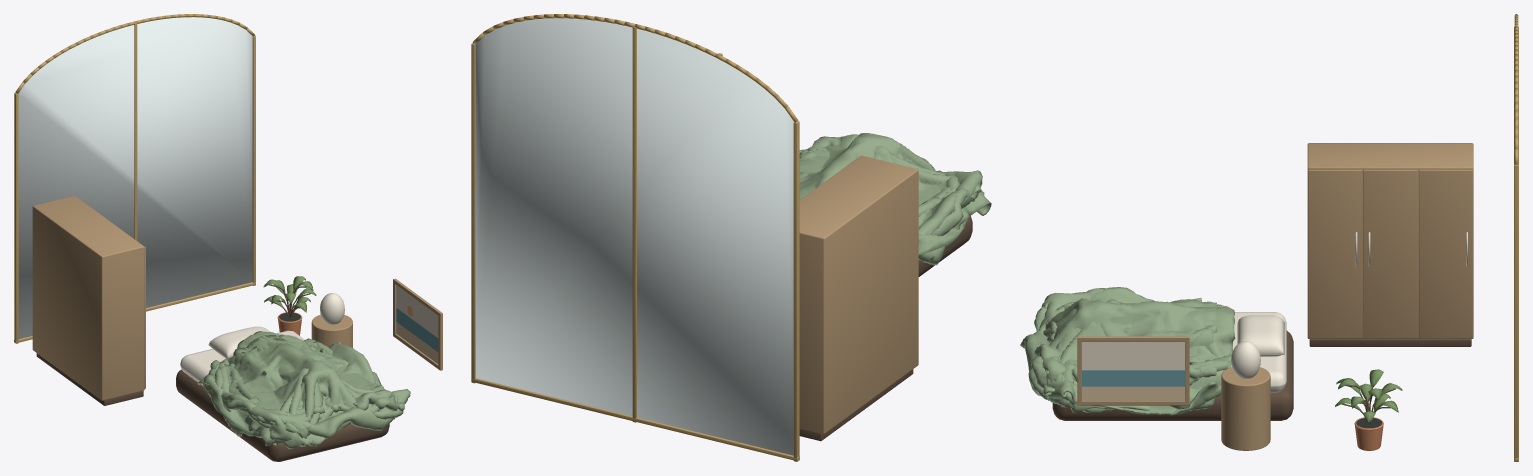
Rendered from bed-control.glb.
The picture shows the model from 3 angles, left to right: view 1: azimuth 30°, elevation 25°; view 2: azimuth 150°, elevation 25°; view 3: azimuth 270°, elevation 25°; orthographic projection. The views are drawn at different scales.
Visible parts, largest first — view 1: sleep_fin_window__facade low-iron glass, sleep_reno_wardrobe__pale oak, sleep_duvet_lizard, sleep_fin_window__brushed brass, sleep__honey ash, sleep_duvet_empty, sleep_duvet_south-park, sleep_duvet_ghibli, sleep_duvet_simpsons, sleep_duvet_rick-and-morty, sleep__linen, sleep_decor pale oak (+7 smaller); view 2: sleep_fin_window__facade low-iron glass, sleep_reno_wardrobe__pale oak, sleep_fin_window__brushed brass, sleep_duvet_lizard, sleep_duvet_ghibli, sleep_duvet_south-park, sleep_duvet_empty, sleep_duvet_simpsons, sleep_reno_wardrobe__honey ash, sleep_duvet_rick-and-morty, sleep__honey ash; view 3: sleep_reno_wardrobe__pale oak, sleep_duvet_lizard, sleep__pale oak, sleep_duvet_ghibli, sleep__honey ash, sleep_decor linen canvas sky, sleep_duvet_empty, sleep_fin_window__brushed brass, sleep_duvet_south-park, sleep__linen, sleep_duvet_simpsons, sleep_decor pale oak (+7 smaller).
Part boxes in pixels (x1,y1,x2,y2): sleep_fin_window__facade low-iron glass: [18, 17, 252, 338]; sleep_reno_wardrobe__pale oak: [32, 195, 145, 400]; sleep_duvet_lizard: [203, 338, 403, 449]; sleep_fin_window__brushed brass: [14, 14, 255, 343]; sleep__honey ash: [176, 284, 389, 461]; sleep_duvet_empty: [208, 342, 410, 446]; sleep_duvet_south-park: [218, 334, 404, 428]; sleep_duvet_ghibli: [210, 331, 395, 446]; sleep_duvet_simpsons: [218, 337, 385, 446]; sleep_duvet_rick-and-morty: [197, 356, 397, 432]; sleep__linen: [180, 293, 344, 385]; sleep_decor pale oak: [393, 278, 442, 370]; sleep_fin_window__facade low-iron glass: [475, 18, 793, 455]; sleep_reno_wardrobe__pale oak: [799, 155, 918, 433]; sleep_fin_window__brushed brass: [471, 14, 799, 461]; sleep_duvet_lizard: [799, 133, 968, 254]; sleep_duvet_ghibli: [799, 134, 977, 235]; sleep_duvet_south-park: [799, 145, 981, 236]; sleep_duvet_empty: [799, 149, 991, 265]; sleep_duvet_simpsons: [799, 141, 984, 235]; sleep_reno_wardrobe__honey ash: [799, 369, 913, 441]; sleep_duvet_rick-and-morty: [802, 136, 981, 225]; sleep__honey ash: [918, 215, 972, 276]; sleep_reno_wardrobe__pale oak: [1307, 143, 1473, 338]; sleep_duvet_lizard: [1028, 298, 1204, 399]; sleep__pale oak: [1221, 367, 1270, 450]; sleep_duvet_ghibli: [1034, 287, 1235, 412]; sleep__honey ash: [1052, 330, 1395, 423]; sleep_decor linen canvas sky: [1082, 342, 1184, 370]; sleep_duvet_empty: [1020, 301, 1231, 415]; sleep_fin_window__brushed brass: [1514, 14, 1518, 461]; sleep_duvet_south-park: [1043, 288, 1217, 413]; sleep__linen: [1231, 312, 1286, 392]; sleep_duvet_simpsons: [1039, 291, 1218, 391]; sleep_decor pale oak: [1077, 336, 1189, 405].
Bounding box in the file's own units: 3.13 × 3.58 × 4.66.
